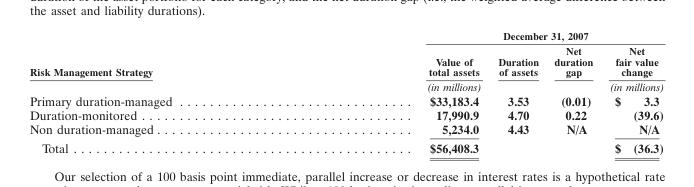table: (28, 28, 663, 155)
table column: (28, 28, 298, 155), (298, 28, 488, 155), (600, 28, 663, 155), (488, 28, 545, 155), (545, 28, 600, 155)
table column header: (28, 28, 663, 92)
table row: (28, 42, 663, 92), (28, 121, 663, 138), (28, 138, 663, 155), (28, 92, 663, 107), (28, 28, 663, 42), (28, 107, 663, 121)
table spanning cell: (28, 28, 298, 92), (298, 28, 663, 42)
